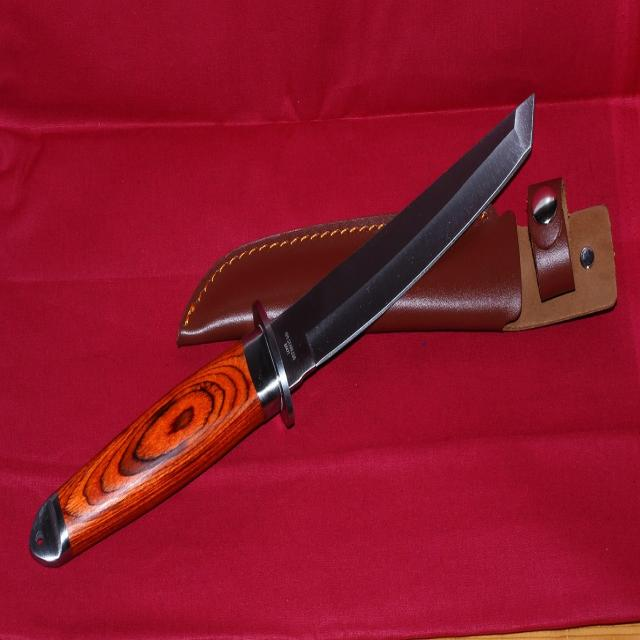knife: (28, 95, 536, 568)
